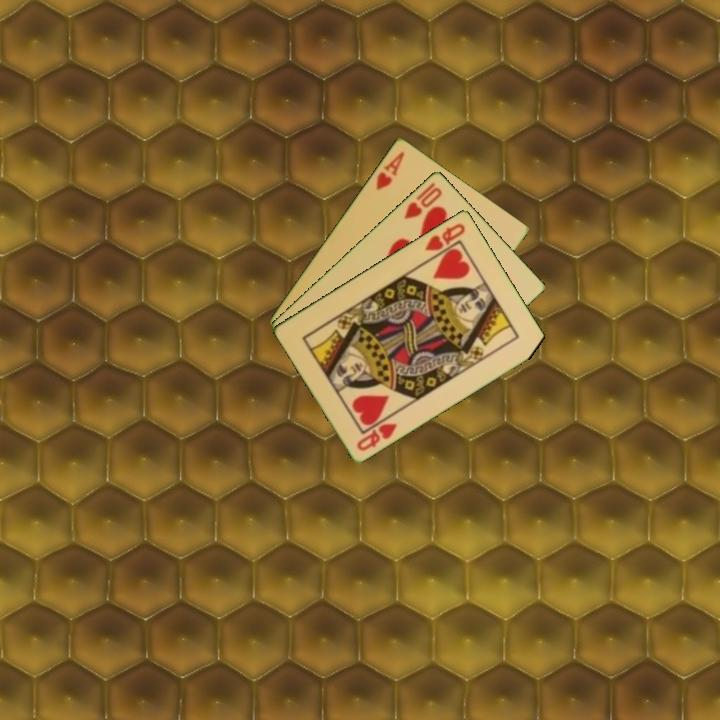10h: (400, 183, 445, 222)
Ah: (372, 148, 407, 193)
Qh: (353, 419, 400, 453), (422, 219, 468, 253)
